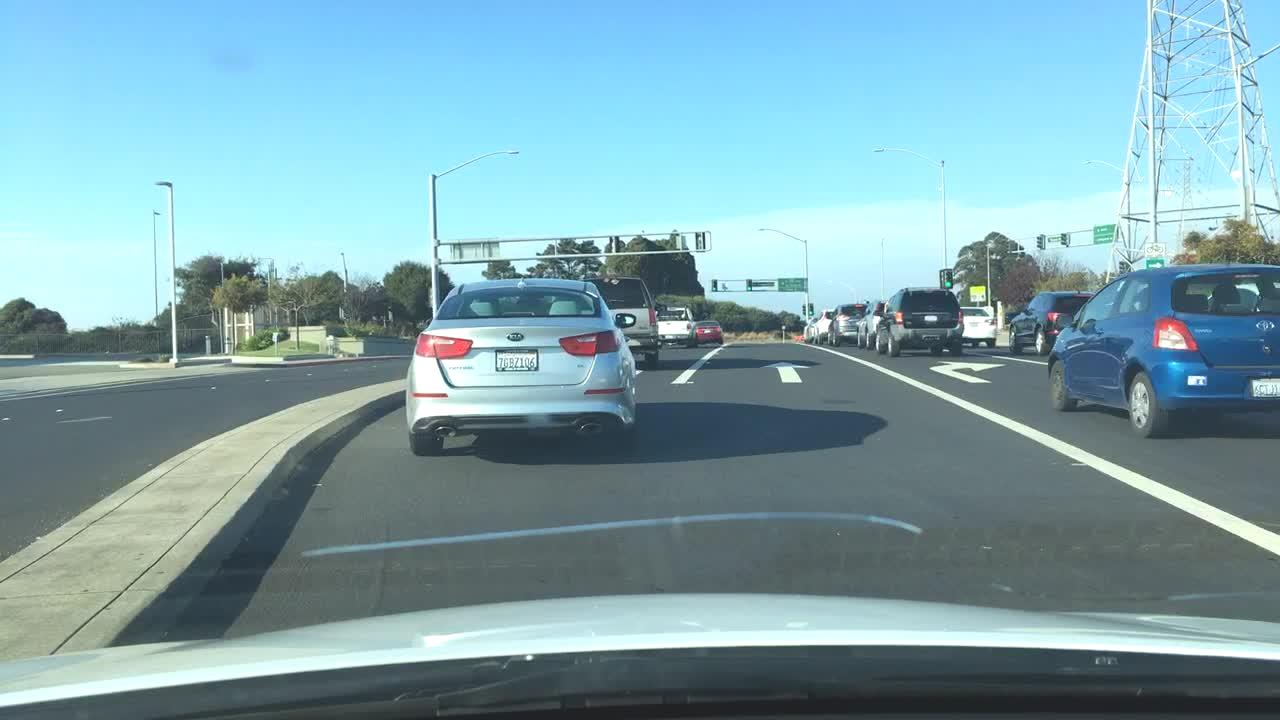kia: (504, 330, 525, 345)
